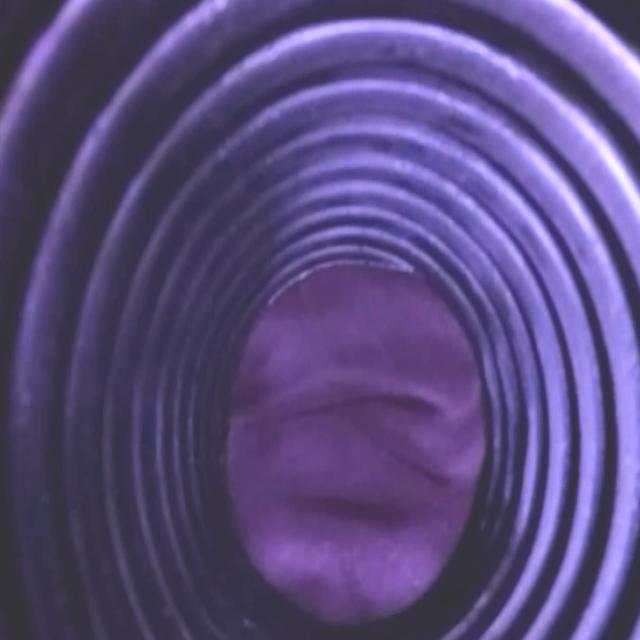block: (225, 266, 490, 612)
